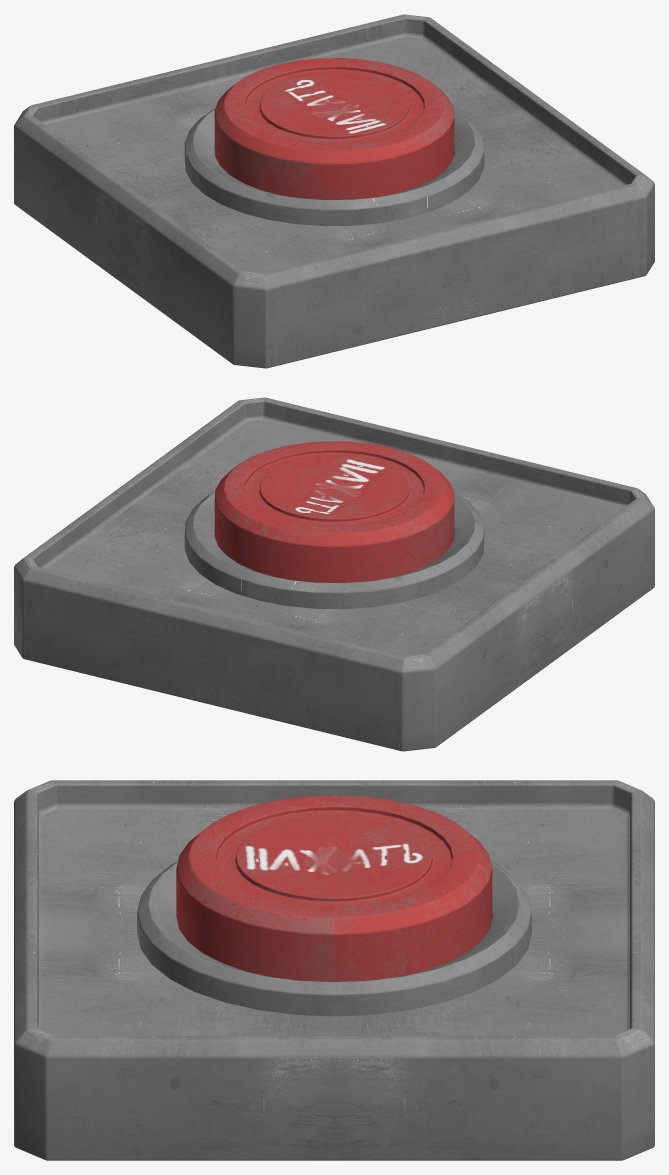
The model's file is button2.fbx.
3 renders of one model, top to bottom at view 1: azimuth 30°, elevation 25°; view 2: azimuth 150°, elevation 25°; view 3: azimuth 270°, elevation 25°, orthographic. The views are drawn at different scales.
Parts seen in each view (by area): view 1: Cube.001, Circle.001, Circle; view 2: Cube.001, Circle.001, Circle; view 3: Cube.001, Circle.001, Circle.
Boxes of the visible parts, x1,y1,x2,y2 form: Cube.001: [14, 14, 654, 368]; Circle.001: [214, 58, 454, 199]; Circle: [184, 108, 484, 226]; Cube.001: [14, 397, 654, 751]; Circle.001: [214, 441, 454, 582]; Circle: [184, 491, 484, 609]; Cube.001: [14, 780, 654, 1160]; Circle.001: [176, 795, 492, 981]; Circle: [137, 861, 531, 1016].
Size of the model in its own units: 1000 by 292 by 1000.
